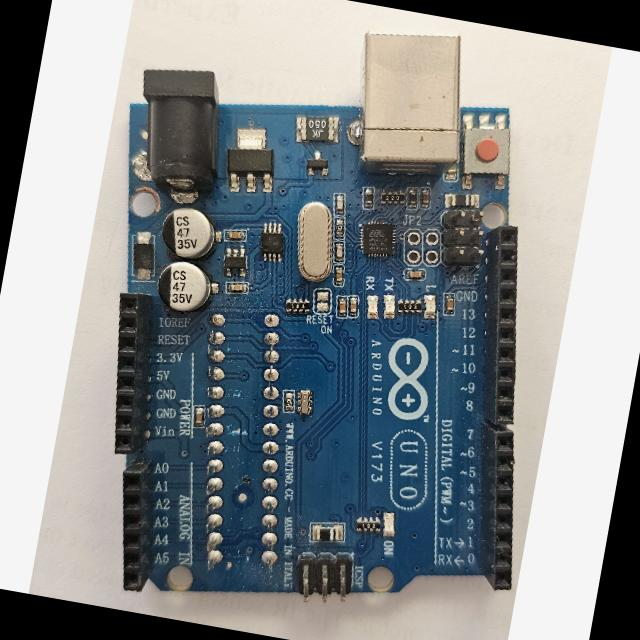missing_atmega: (200, 302, 285, 578)
